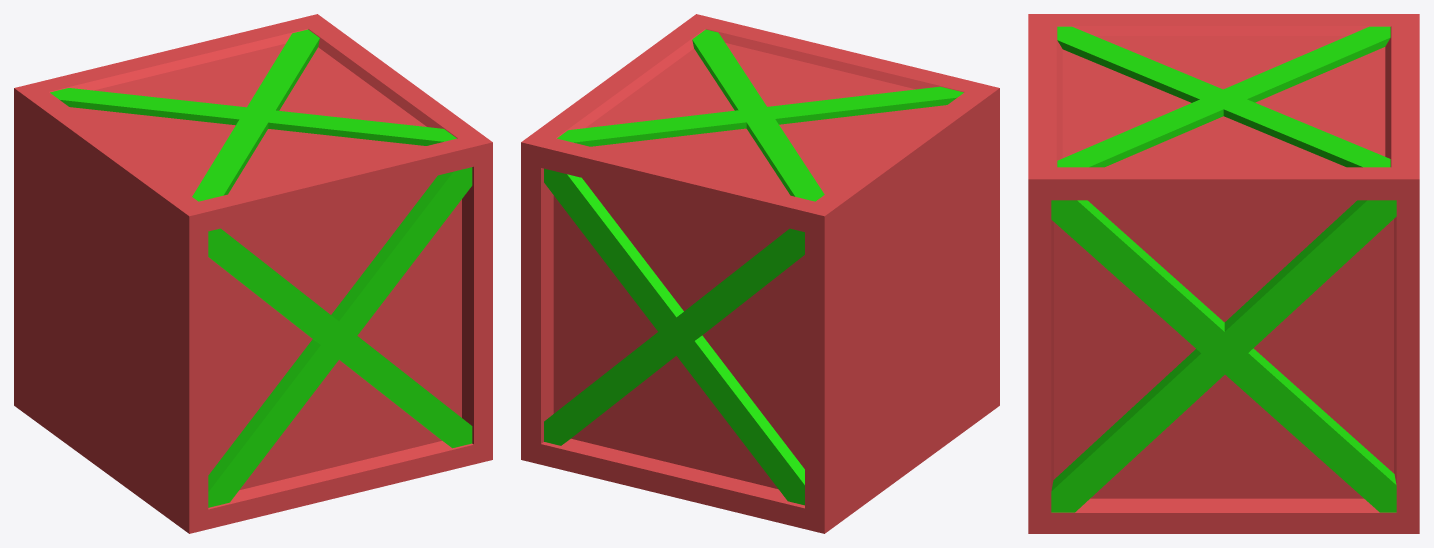
3 views of the same model, side by side, from view 1: azimuth 30°, elevation 25°; view 2: azimuth 150°, elevation 25°; view 3: azimuth 270°, elevation 25° (orthographic). The views are drawn at different scales.
Visible parts, largest first — view 1: Cube, Cube.003, Cube.006, Cube.005, Cube.002; view 2: Cube, Cube.004, Cube.007, Cube.002, Cube.005; view 3: Cube, Cube.008, Cube.001, Cube.005, Cube.002.
Part boxes in pixels (bbox=[...]): Cube: bbox=[14, 14, 492, 533]; Cube.003: bbox=[208, 167, 472, 507]; Cube.006: bbox=[208, 228, 472, 448]; Cube.005: bbox=[50, 88, 456, 145]; Cube.002: bbox=[192, 29, 319, 201]; Cube: bbox=[521, 14, 999, 533]; Cube.004: bbox=[544, 168, 804, 505]; Cube.007: bbox=[544, 228, 804, 445]; Cube.002: bbox=[557, 86, 963, 146]; Cube.005: bbox=[692, 29, 824, 201]; Cube: bbox=[1028, 14, 1419, 533]; Cube.008: bbox=[1051, 200, 1396, 512]; Cube.001: bbox=[1051, 200, 1396, 512]; Cube.005: bbox=[1057, 26, 1390, 167]; Cube.002: bbox=[1057, 26, 1390, 167].
Bounding box in the file's own units: 504 × 504 × 504.
